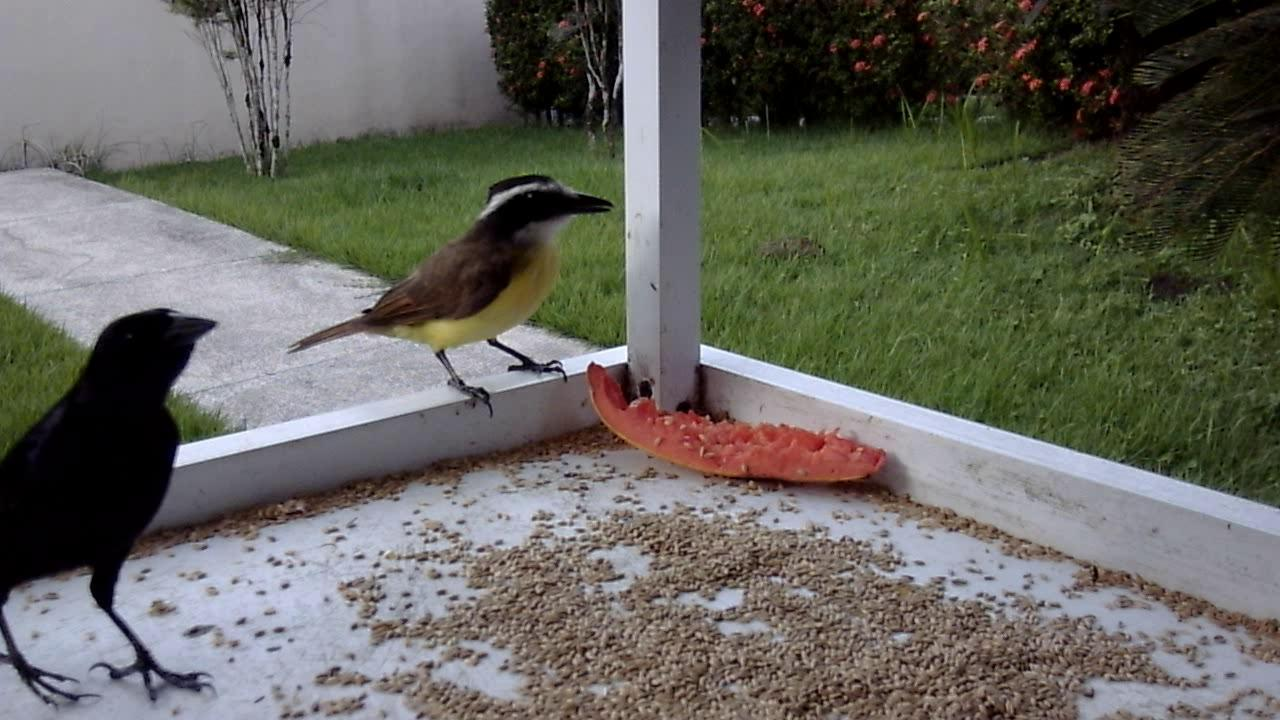bem_te_vi: (270, 162, 621, 432)
chupim: (1, 291, 234, 720)
